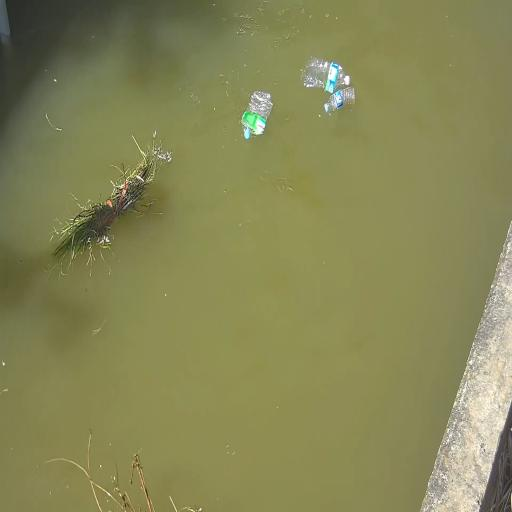plastic: (302, 58, 349, 93), (242, 92, 273, 138), (324, 87, 355, 113)
twig: (50, 134, 172, 274), (45, 429, 143, 512), (129, 450, 155, 512)
